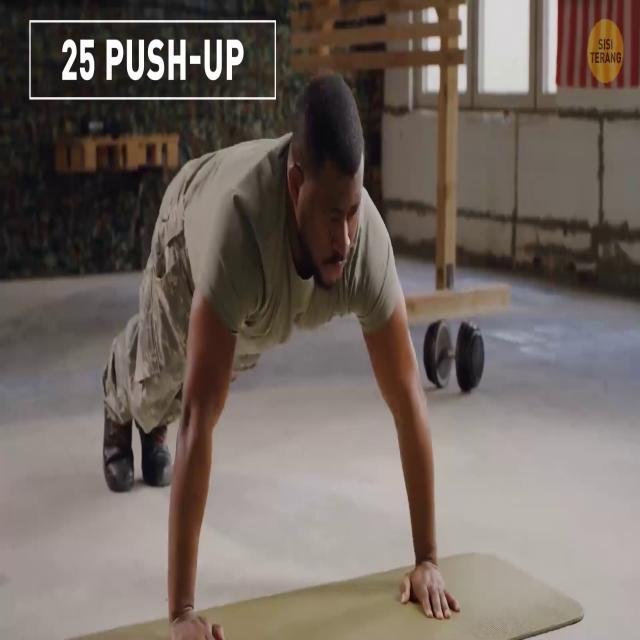Push up: (81, 61, 479, 636)
